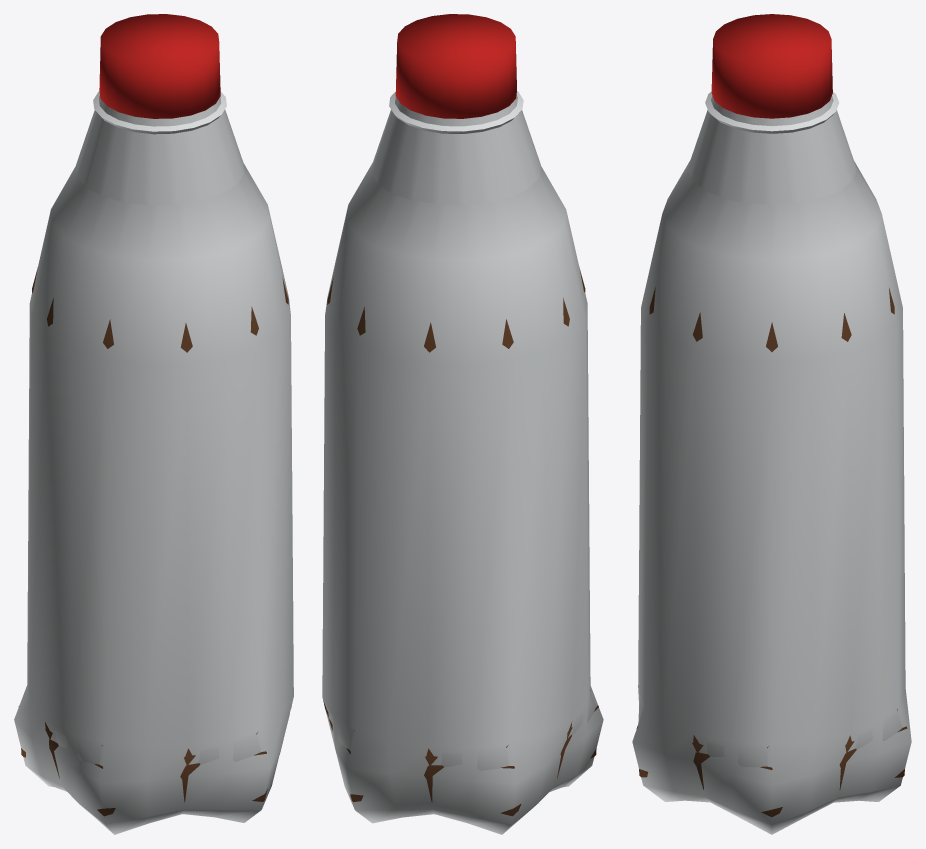
Rendered from bottle_pet500_lod2.glb.
The picture shows the model from 3 angles, left to right: view 1: azimuth 30°, elevation 25°; view 2: azimuth 150°, elevation 25°; view 3: azimuth 270°, elevation 25°; orthographic projection.
Parts seen in each view (by area): view 1: Glass, Cap, Liquid; view 2: Glass, Cap, Liquid; view 3: Glass, Cap, Liquid.
Part boxes in pixels (x1,y1,x2,y2): Glass: [14, 91, 293, 834]; Cap: [99, 14, 220, 118]; Liquid: [18, 267, 291, 816]; Glass: [322, 91, 603, 834]; Cap: [395, 14, 516, 118]; Liquid: [323, 267, 598, 816]; Glass: [632, 91, 911, 834]; Cap: [711, 14, 832, 118]; Liquid: [636, 287, 907, 817].
Bounding box in the file's own units: 0.0699 × 0.2062 × 0.0696.
